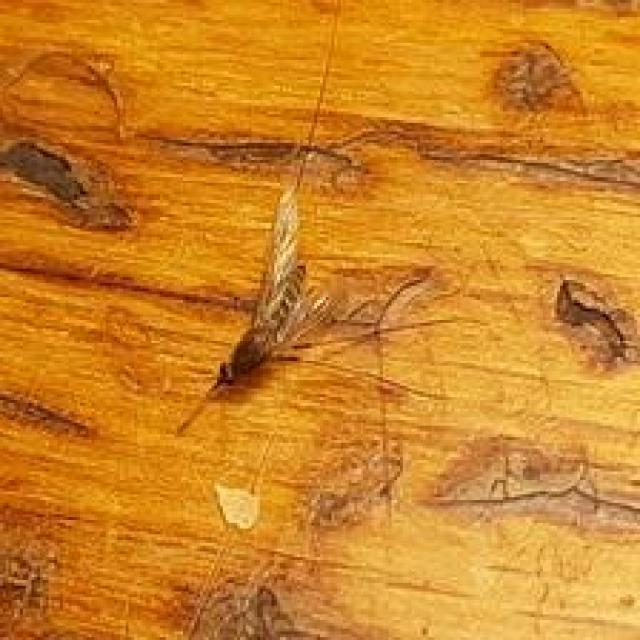Culex: (551, 276, 640, 370)
